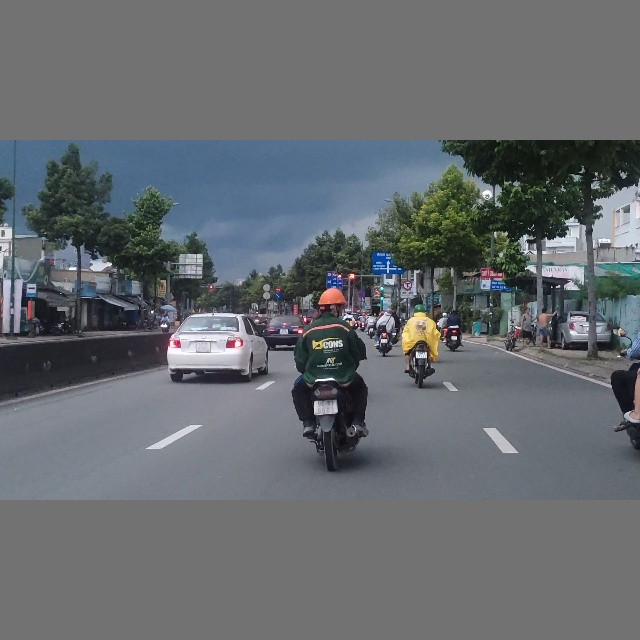P.102: (275, 287, 281, 292)
P.137: (403, 280, 412, 289)
R.302a: (275, 293, 281, 299)
R.415a: (327, 277, 343, 289)
